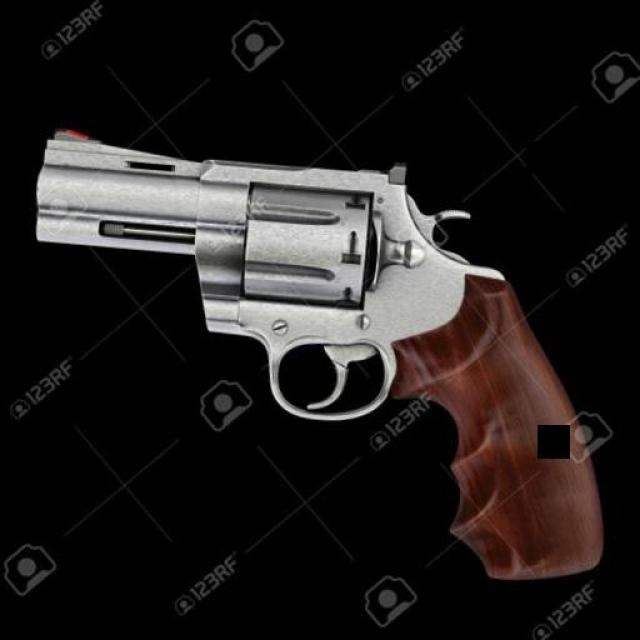gun: (7, 117, 638, 592)
